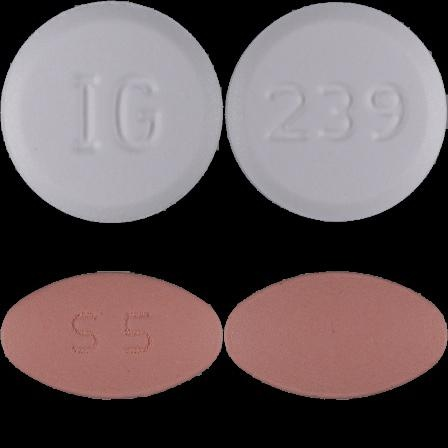33261-535: (0, 0, 224, 224)
